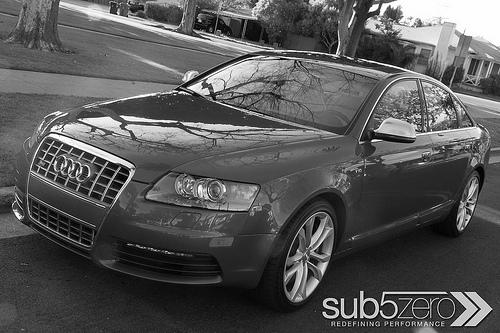car: (14, 50, 493, 314)
